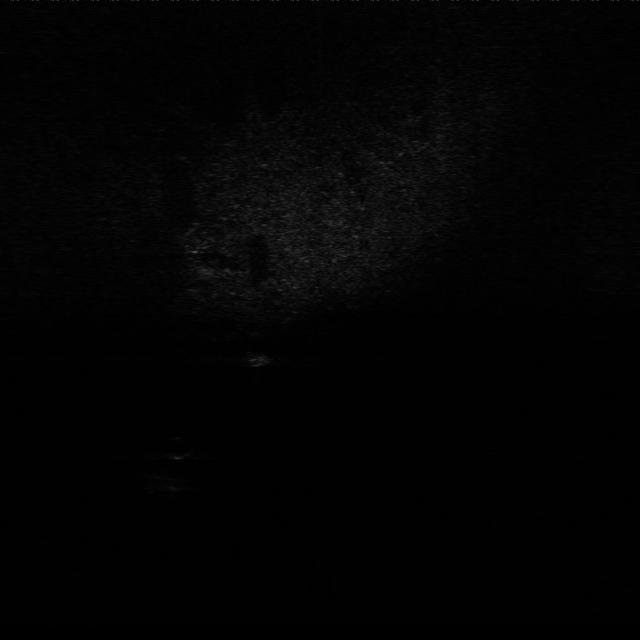ball: (162, 430, 199, 461)
cube: (244, 343, 274, 369)
